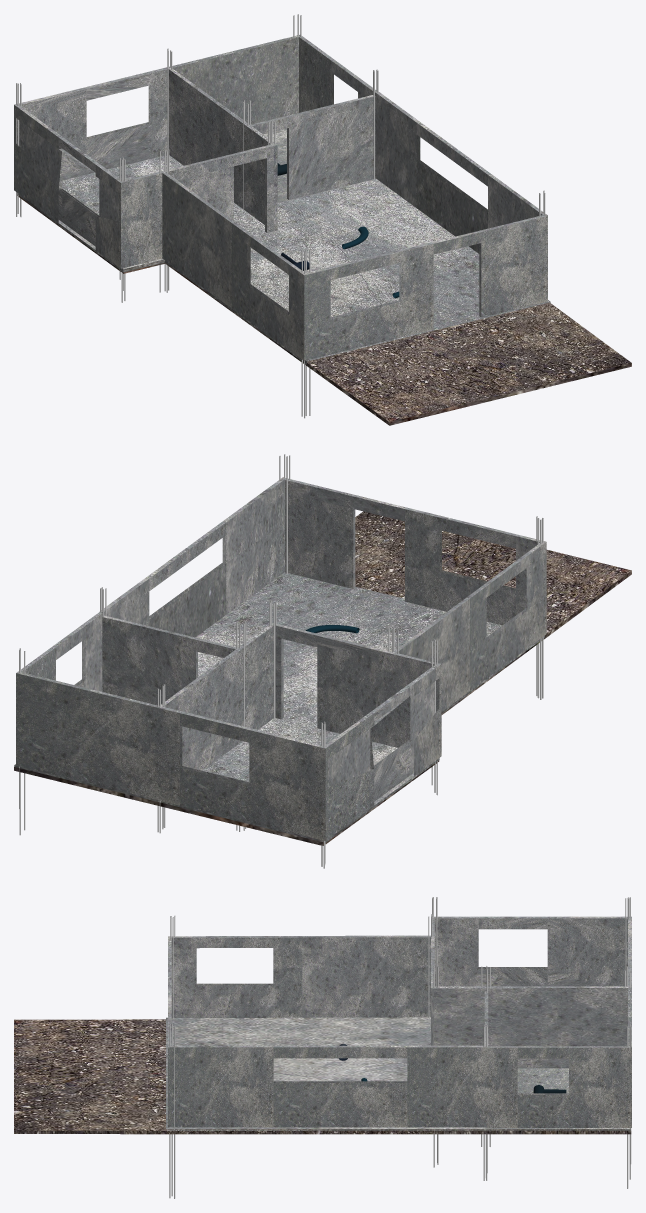
Rendered from ground Floor.fbx.
3 views of the same model, one above another, from view 1: azimuth 30°, elevation 25°; view 2: azimuth 150°, elevation 25°; view 3: azimuth 270°, elevation 25° (orthographic). The views are drawn at different scales.
Parts seen in each view (by area): view 1: Floor.001, Floor.002, wall_02, wall_03, wall_10, wall_05, wall_01, wall_06, wall_07, wall_04, wall_08, wall_09; view 2: Floor.001, wall_02, wall_08, wall_06, Floor.002, wall_10, wall_04, wall_03, wall_05, wall_07, wall_01, wall_09; view 3: wall_10, Floor.002, wall_03, Floor.001, wall_07, wall_05, wall_09, wall_02.
Part boxes in pixels (x1,y1,x2,y2): Floor.001: [17, 128, 550, 364]; Floor.002: [17, 195, 631, 425]; wall_02: [304, 215, 547, 360]; wall_03: [162, 172, 304, 360]; wall_10: [375, 91, 547, 253]; wall_05: [14, 104, 121, 266]; wall_01: [251, 95, 375, 199]; wall_06: [15, 67, 167, 180]; wall_07: [168, 67, 277, 231]; wall_04: [119, 144, 273, 268]; wall_08: [169, 35, 299, 124]; wall_09: [299, 35, 376, 112]; Floor.001: [14, 572, 544, 843]; wall_02: [285, 478, 545, 625]; wall_08: [16, 672, 160, 800]; wall_06: [161, 707, 325, 840]; Floor.002: [14, 511, 631, 845]; wall_10: [99, 477, 284, 637]; wall_04: [275, 624, 441, 757]; wall_03: [393, 541, 546, 711]; wall_05: [325, 665, 439, 840]; wall_07: [159, 622, 273, 770]; wall_01: [102, 615, 236, 705]; wall_09: [16, 612, 102, 691]; wall_10: [168, 1045, 487, 1127]; Floor.002: [14, 1019, 631, 1134]; wall_03: [169, 935, 430, 1017]; Floor.001: [166, 1017, 630, 1130]; wall_07: [431, 986, 629, 1068]; wall_05: [434, 916, 631, 986]; wall_09: [487, 1046, 631, 1127]; wall_02: [168, 936, 171, 1127].
Size of the model in its own units: 1014 by 718 by 2004.
